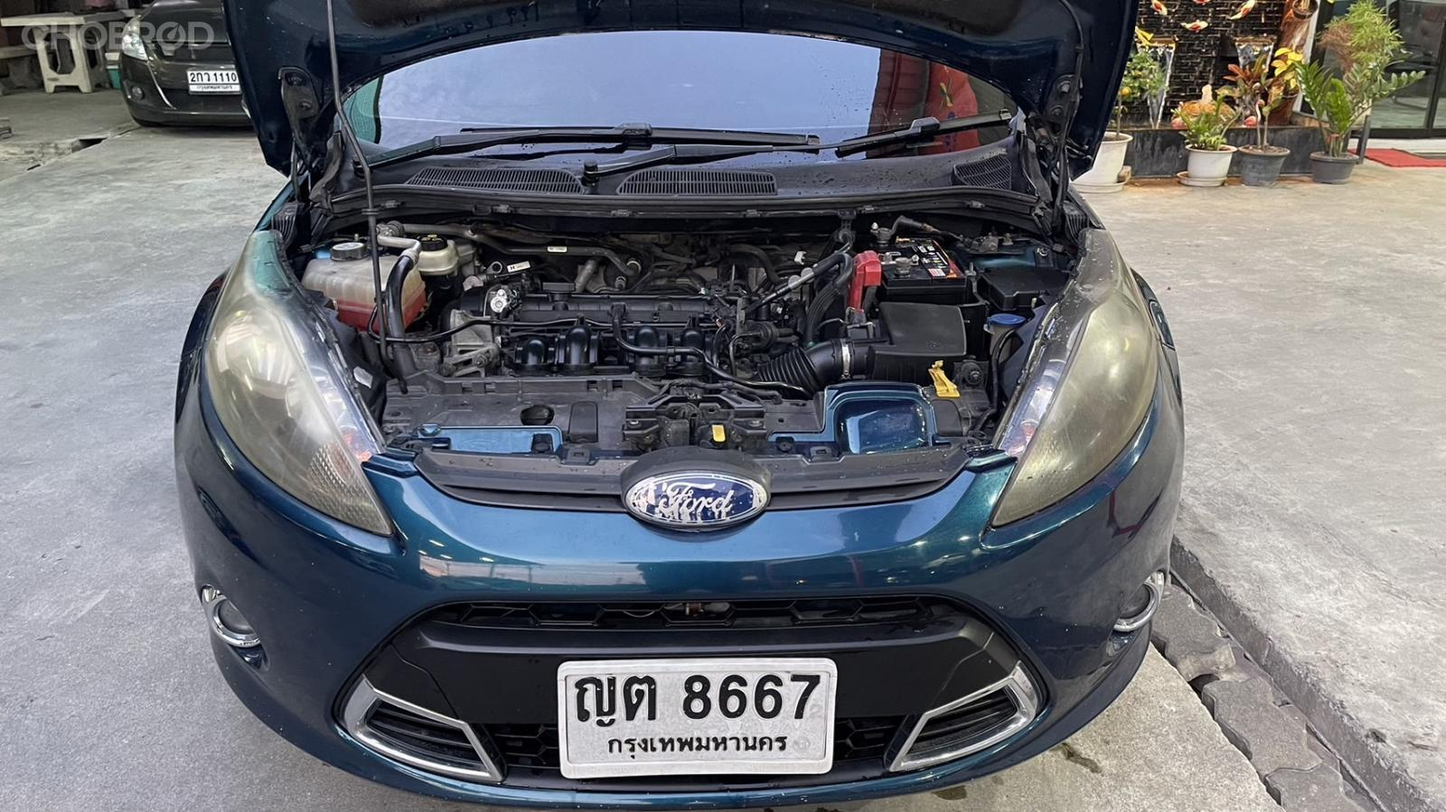license-plate: (557, 659, 838, 776)
